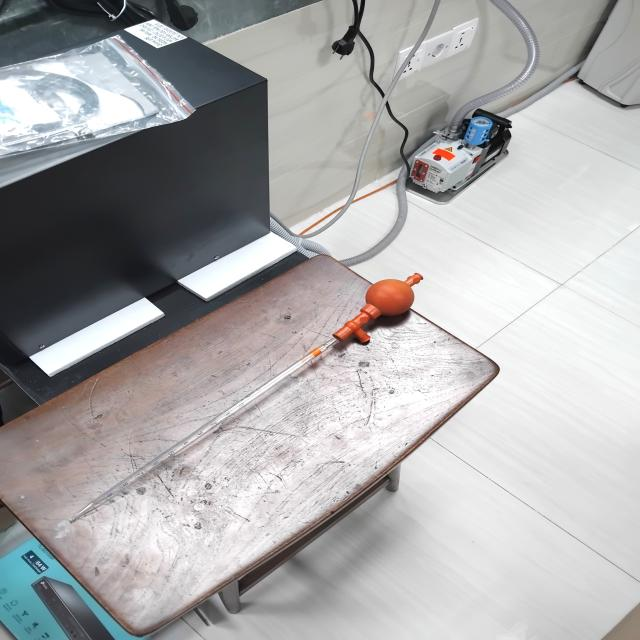Volumetric_Pipet: (28, 243, 460, 561)
